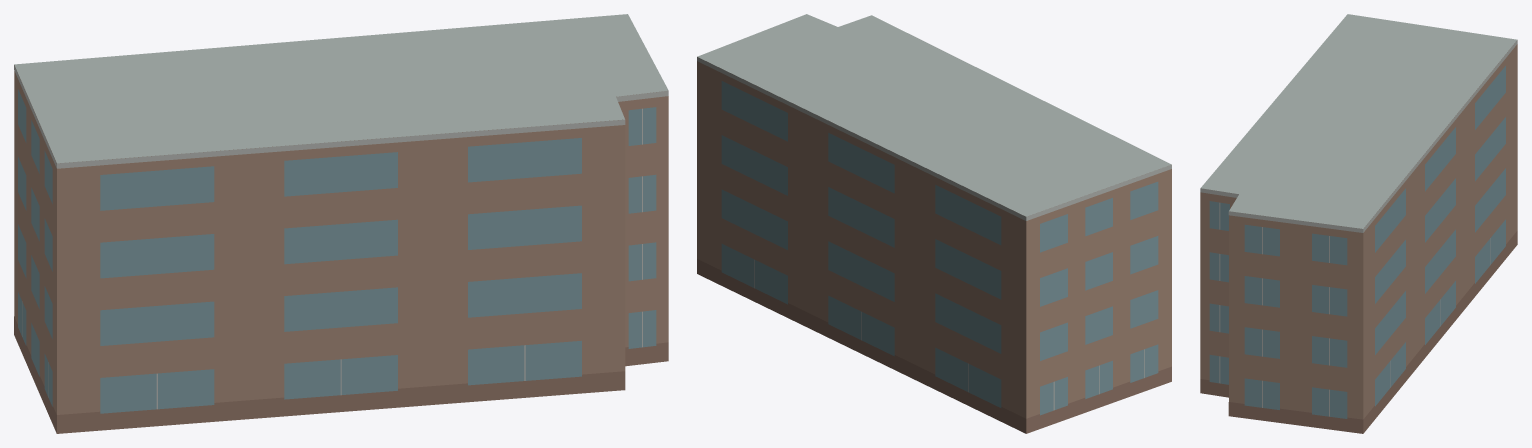
File: survey-upis-32851070.glb
The picture shows the model from 3 angles, left to right: view 1: azimuth 30°, elevation 25°; view 2: azimuth 150°, elevation 25°; view 3: azimuth 270°, elevation 25°; orthographic projection. The views are drawn at different scales.
Visible parts, largest first — view 1: survey-upis-32851070.tmp; view 2: survey-upis-32851070.tmp; view 3: survey-upis-32851070.tmp.
Boxes of the visible parts, x1,y1,x2,y2 form: survey-upis-32851070.tmp: (14, 14, 668, 433); survey-upis-32851070.tmp: (697, 14, 1171, 433); survey-upis-32851070.tmp: (1200, 14, 1517, 433).
Size of the model in its own units: 27.45 by 12.2 by 17.12.
